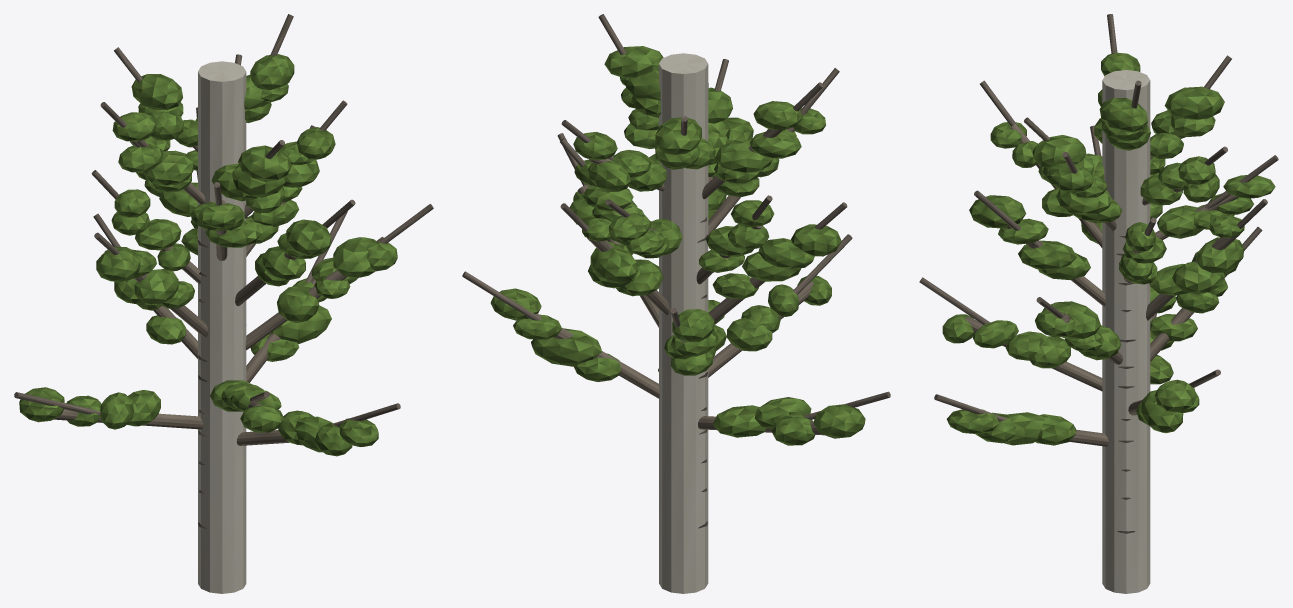
The model's file is standard-lod0.glb.
The picture shows the model from 3 angles, left to right: view 1: azimuth 30°, elevation 25°; view 2: azimuth 150°, elevation 25°; view 3: azimuth 270°, elevation 25°; orthographic projection. The views are drawn at different scales.
Parts seen in each view (by area): view 1: birch-bark-branches-leaf-masses; view 2: birch-bark-branches-leaf-masses; view 3: birch-bark-branches-leaf-masses.
Boxes of the visible parts, left/top/right/bottom form: birch-bark-branches-leaf-masses: left=14, top=14, right=433, bottom=593; birch-bark-branches-leaf-masses: left=462, top=14, right=890, bottom=593; birch-bark-branches-leaf-masses: left=919, top=14, right=1278, bottom=593.
Size of the model in its own units: 11.93 by 16.56 by 10.02.
